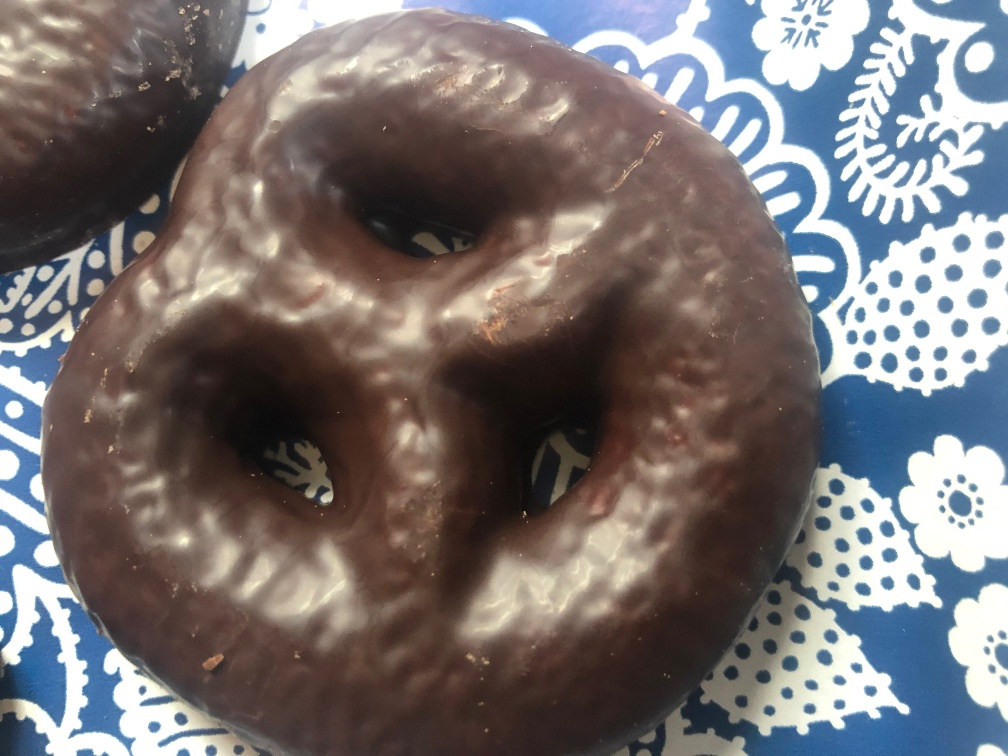bretzel: (44, 15, 823, 742)
